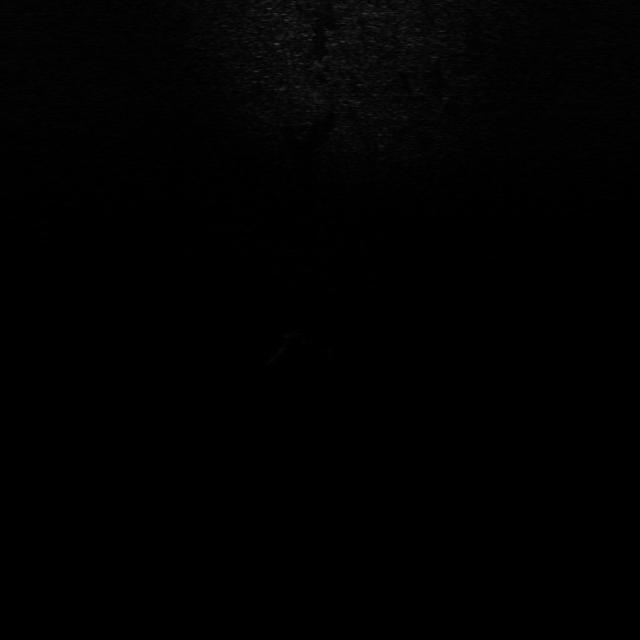human body: (269, 326, 342, 368)
